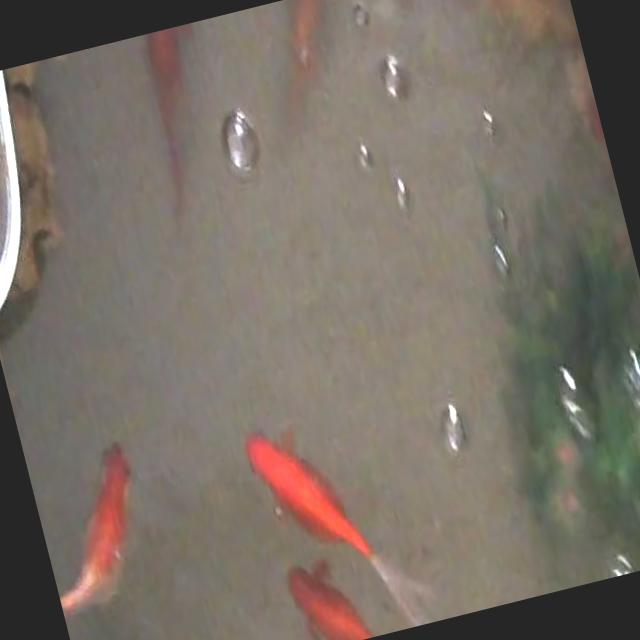fish: (240, 403, 389, 596), (26, 438, 165, 628), (130, 23, 236, 220), (279, 532, 418, 640), (254, 0, 352, 139), (577, 86, 628, 236)
